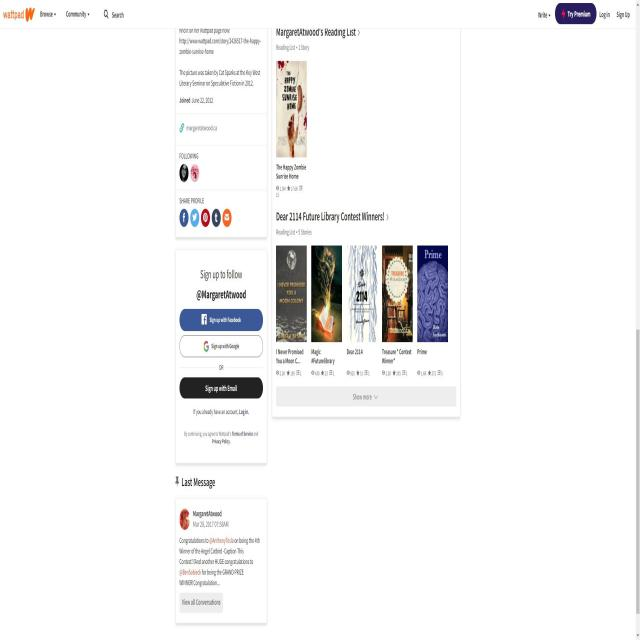button: (179, 308, 263, 332), (178, 377, 264, 400), (178, 336, 264, 358)
select: (66, 7, 90, 21), (39, 7, 58, 21)
